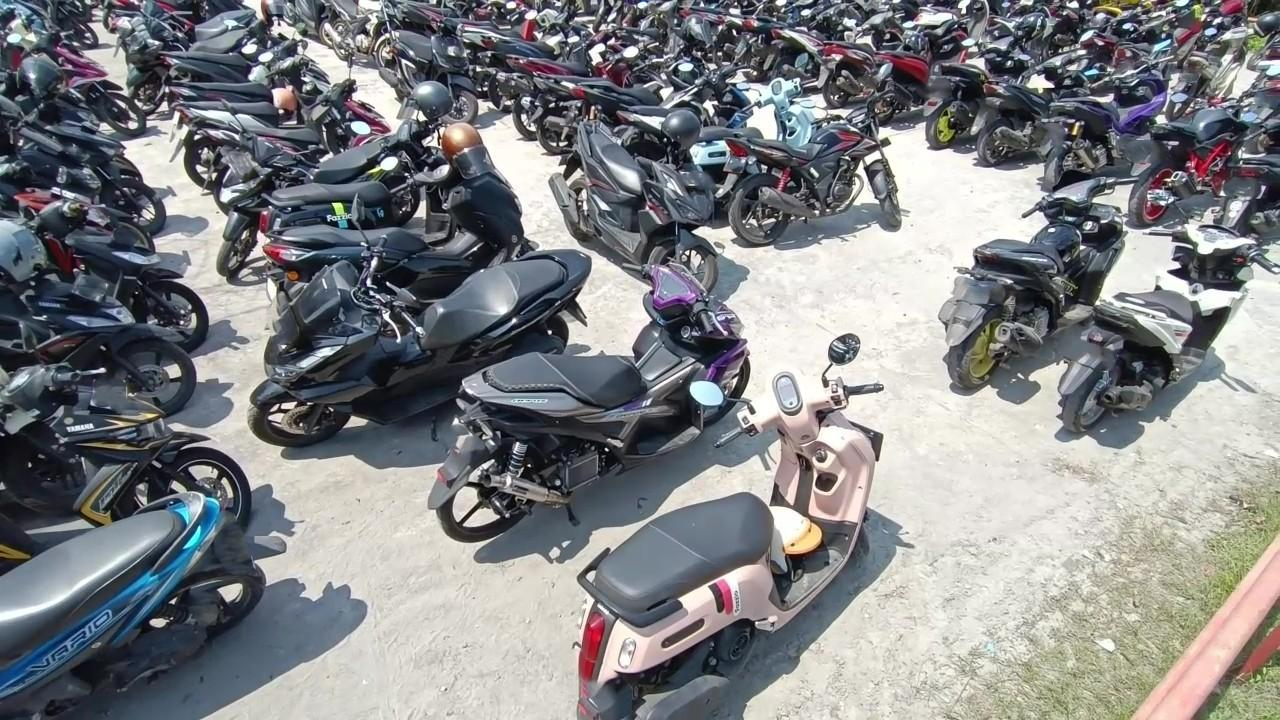motorcycle: (571, 333, 893, 720), (430, 253, 757, 530), (246, 201, 593, 449), (0, 343, 254, 588), (0, 488, 267, 720), (1050, 186, 1280, 437), (270, 124, 522, 307), (946, 151, 1126, 390), (0, 217, 196, 431), (0, 170, 208, 357), (216, 101, 423, 277), (549, 113, 734, 306), (729, 69, 907, 245), (552, 18, 730, 157), (686, 56, 826, 202), (1031, 44, 1172, 187), (1129, 79, 1256, 227), (613, 51, 759, 169), (923, 17, 1049, 149), (377, 13, 491, 133)
